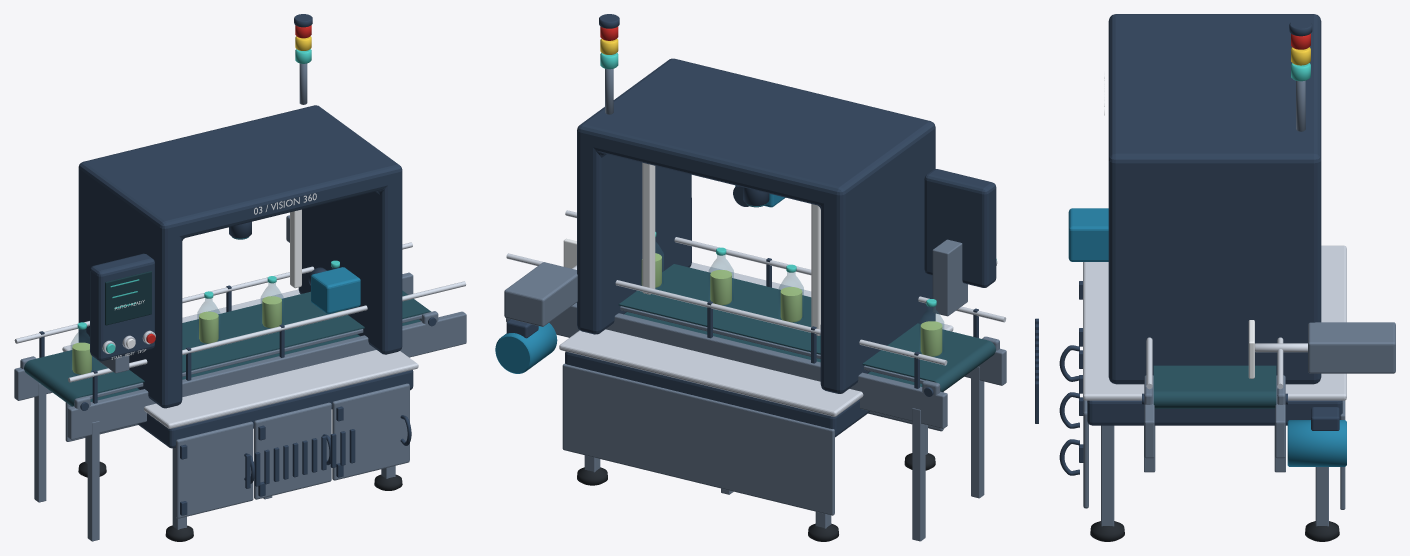
File: vision.glb
The picture shows the model from 3 angles, left to right: view 1: azimuth 30°, elevation 25°; view 2: azimuth 150°, elevation 25°; view 3: azimuth 270°, elevation 25°; orthographic projection. The views are drawn at different scales.
Visible parts, largest first — view 1: Folded optical hood, Continuous hygienic PU belt.013, Folded side channel.004, Optical base top, Optical base access door, Optical base access door.002, Optical base access door.001, Optical terminal controller, Optical base chassis, Vent louvre vision, Optical terminal display glass, Side camera (+14 smaller); view 2: Folded optical hood, Optical base rear, Continuous hygienic PU belt.013, Optical base top, Folded side channel.005, Optical terminal controller, Optical base chassis, Reject actuator, Optical terminal mounting bracket, Guide rail.005, Conveyor gearmotor.002, Conveyor support.005 (+13 smaller); view 3: Folded optical hood, Optical base top, Continuous hygienic PU belt.013, Reject actuator, Optical base chassis, Conveyor gearmotor.002, Side camera, Stainless square tube.010, Stainless square tube.011, Folded side channel.004, Folded side channel.005, Motor terminal box.002 (+5 smaller).
Part boxes in pixels (left/top/right/bottom): Folded optical hood: left=78, top=105, right=402, bottom=408; Continuous hygienic PU belt.013: left=24, top=290, right=431, bottom=406; Folded side channel.004: left=67, top=311, right=466, bottom=439; Optical base top: left=62, top=289, right=418, bottom=428; Optical base access door: left=176, top=421, right=253, bottom=518; Optical base access door.002: left=332, top=383, right=409, bottom=480; Optical base access door.001: left=254, top=402, right=331, bottom=499; Optical terminal controller: left=90, top=253, right=154, bottom=361; Optical base chassis: left=137, top=370, right=413, bottom=448; Vent louvre vision: left=245, top=429, right=355, bottom=488; Optical terminal display glass: left=105, top=271, right=151, bottom=325; Side camera: left=311, top=267, right=360, bottom=313; Folded optical hood: left=577, top=58, right=935, bottom=393; Optical base rear: left=562, top=363, right=834, bottom=515; Continuous hygienic PU belt.013: left=576, top=264, right=995, bottom=391; Optical base top: left=559, top=262, right=953, bottom=416; Folded side channel.005: left=506, top=303, right=947, bottom=428; Optical terminal controller: left=924, top=169, right=996, bottom=287; Optical base chassis: left=565, top=351, right=870, bottom=437; Reject actuator: left=504, top=262, right=577, bottom=326; Optical terminal mounting bracket: left=932, top=239, right=967, bottom=316; Guide rail.005: left=506, top=253, right=947, bottom=365; Conveyor gearmotor.002: left=495, top=323, right=557, bottom=373; Conveyor support.005: left=721, top=408, right=925, bottom=541; Folded optical hood: left=1108, top=14, right=1321, bottom=384; Optical base top: left=1083, top=245, right=1346, bottom=400; Continuous hygienic PU belt.013: left=1153, top=365, right=1276, bottom=408; Reject actuator: left=1308, top=322, right=1395, bottom=373; Optical base chassis: left=1087, top=400, right=1342, bottom=425; Conveyor gearmotor.002: left=1287, top=420, right=1346, bottom=466; Side camera: left=1068, top=208, right=1108, bottom=261; Stainless square tube.010: left=1101, top=425, right=1114, bottom=526; Stainless square tube.011: left=1315, top=467, right=1328, bottom=526; Folded side channel.004: left=1144, top=375, right=1154, bottom=458; Folded side channel.005: left=1275, top=375, right=1285, bottom=458; Motor terminal box.002: left=1311, top=407, right=1339, bottom=430.
Bounding box in the file's own units: 2.75 × 2.74 × 1.77.
